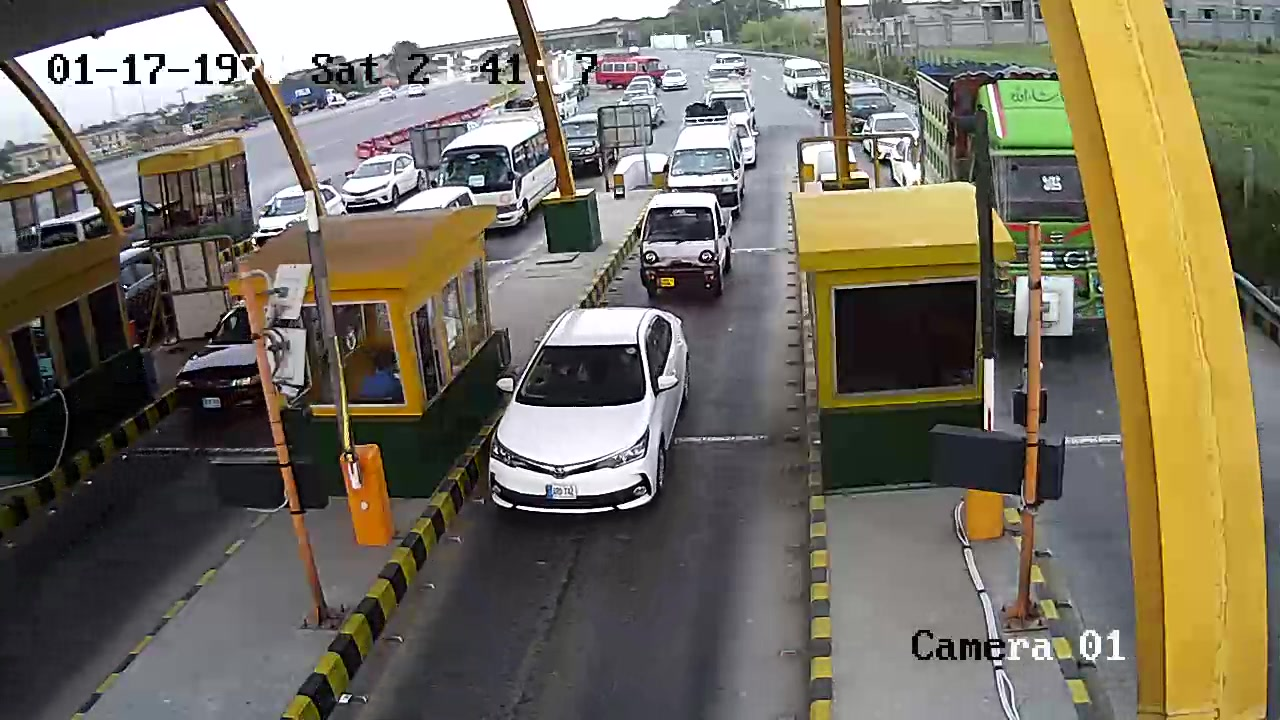F1: (634, 191, 738, 305)
